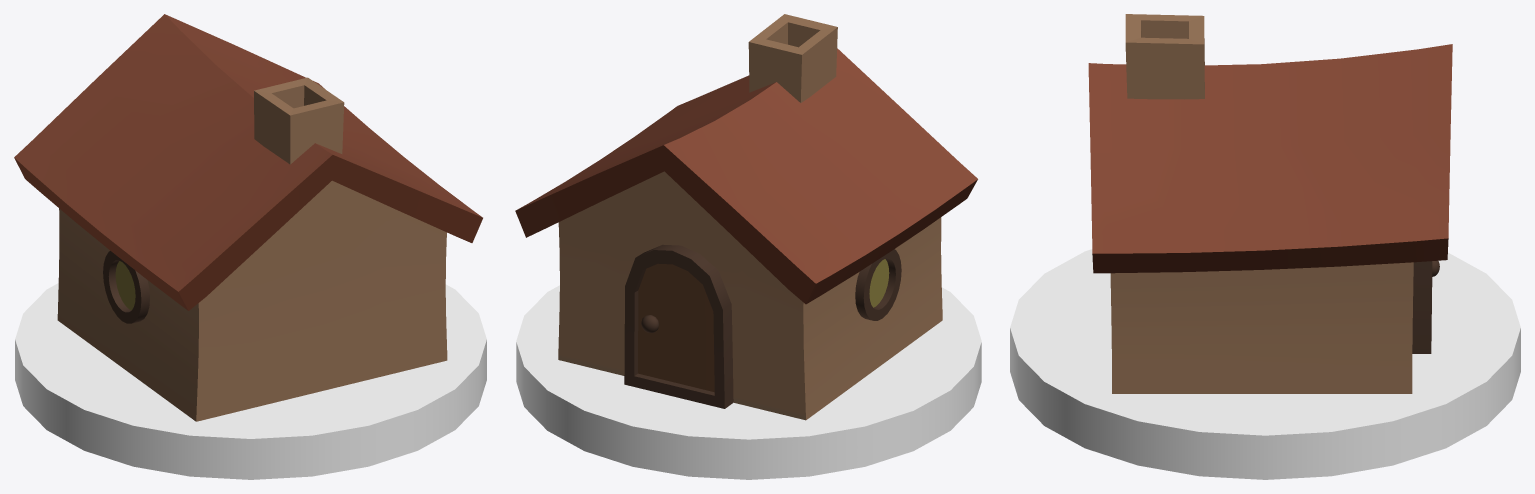
The model's file is Onion_MapIcon.fbx.
The picture shows the model from 3 angles, left to right: view 1: azimuth 30°, elevation 25°; view 2: azimuth 150°, elevation 25°; view 3: azimuth 270°, elevation 25°; orthographic projection. The views are drawn at different scales.
Visible parts, largest first — view 1: Onion_MapIcon; view 2: Onion_MapIcon; view 3: Onion_MapIcon.
Boxes of the visible parts, bbox=[...] form: Onion_MapIcon: bbox=[14, 14, 486, 479]; Onion_MapIcon: bbox=[515, 14, 981, 479]; Onion_MapIcon: bbox=[1010, 14, 1520, 479].
Size of the model in its own units: 1.17 by 0.871 by 1.17.
1 material, 1 textured.
